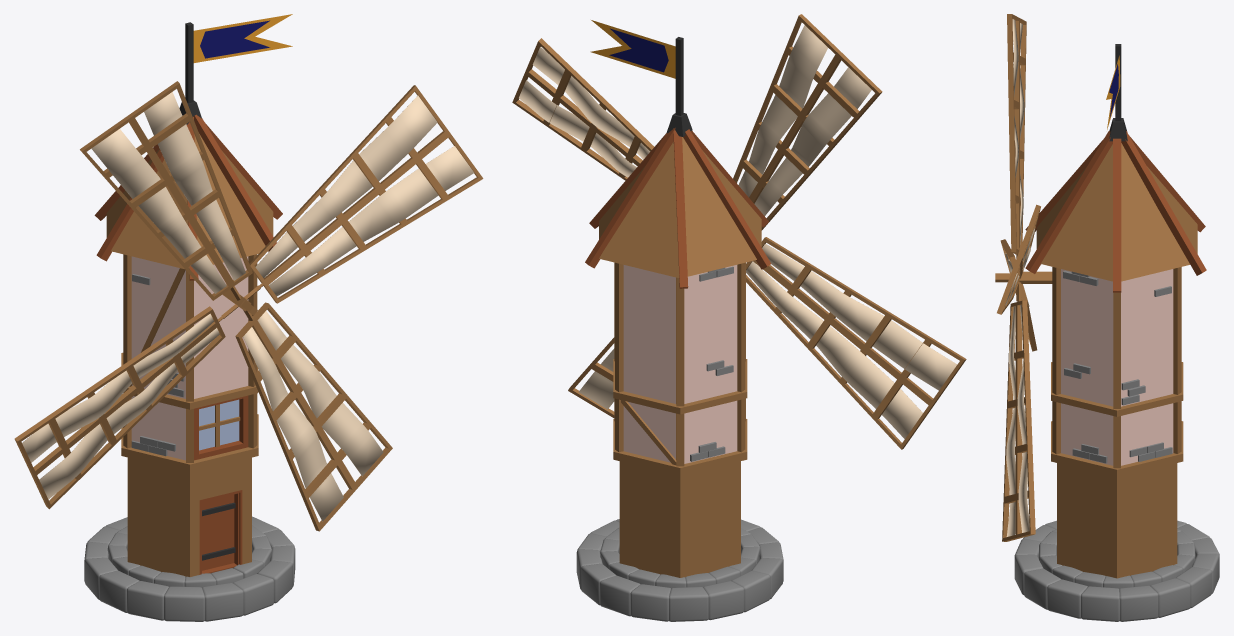
Rendered from PFE-Props-Moulin.fbx.
3 renders of one model, left to right at view 1: azimuth 30°, elevation 25°; view 2: azimuth 150°, elevation 25°; view 3: azimuth 270°, elevation 25°, orthographic. The views are drawn at different scales.
Parts seen in each view (by area): view 1: Cube.040, Cube.005; view 2: Cube.005, Cube.040; view 3: Cube.005, Cube.040.
Part boxes in pixels (x1,y1,x2,y2): Cube.040: (14, 81, 483, 531); Cube.005: (84, 14, 295, 621); Cube.005: (576, 20, 783, 621); Cube.040: (512, 14, 966, 449); Cube.005: (1014, 44, 1219, 621); Cube.040: (995, 14, 1052, 541).
Size of the model in its own units: 1406 by 1600 by 608.
